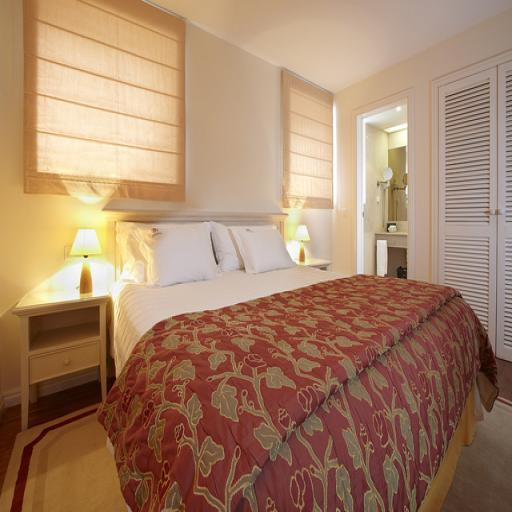bed: (104, 210, 497, 510)
